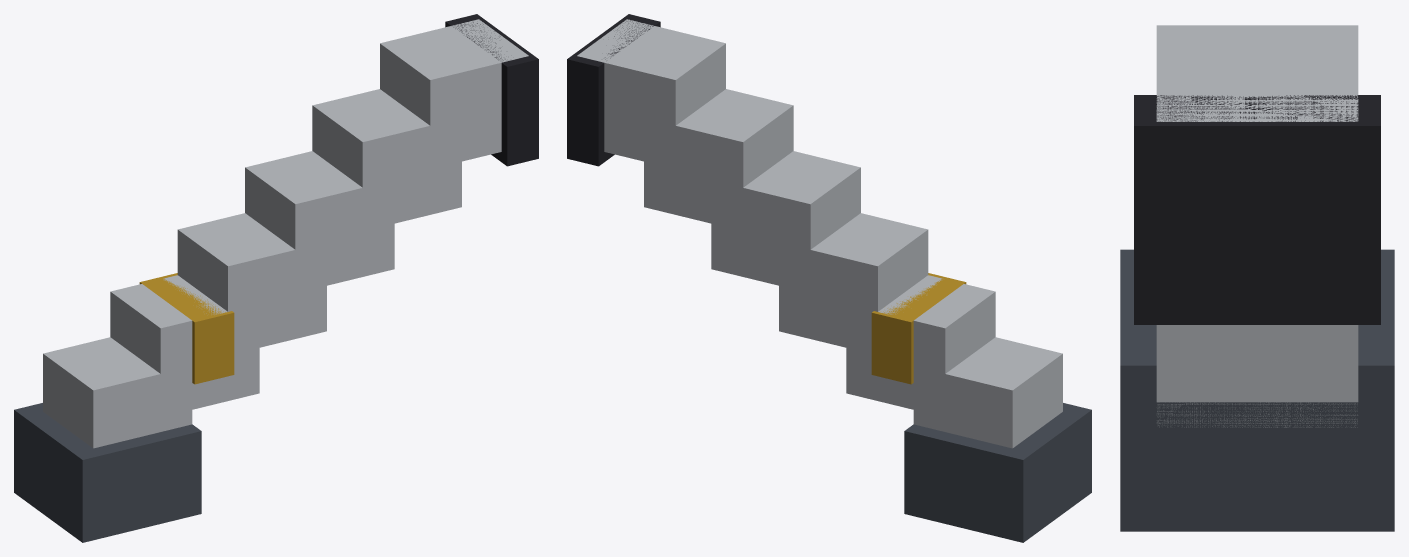
File: ntu-dome-telescope.glb
3 renders of one model, left to right at view 1: azimuth 30°, elevation 25°; view 2: azimuth 150°, elevation 25°; view 3: azimuth 270°, elevation 25°, orthographic. The views are drawn at different scales.
Parts seen in each view (by area): view 1: box-prop; view 2: box-prop; view 3: box-prop.
Boxes of the visible parts, x1,y1,x2,y2 form: box-prop: (14, 14, 538, 542); box-prop: (567, 14, 1091, 542); box-prop: (1120, 25, 1394, 531).
Bounding box in the file's own units: 2.32 × 1.78 × 0.6.
